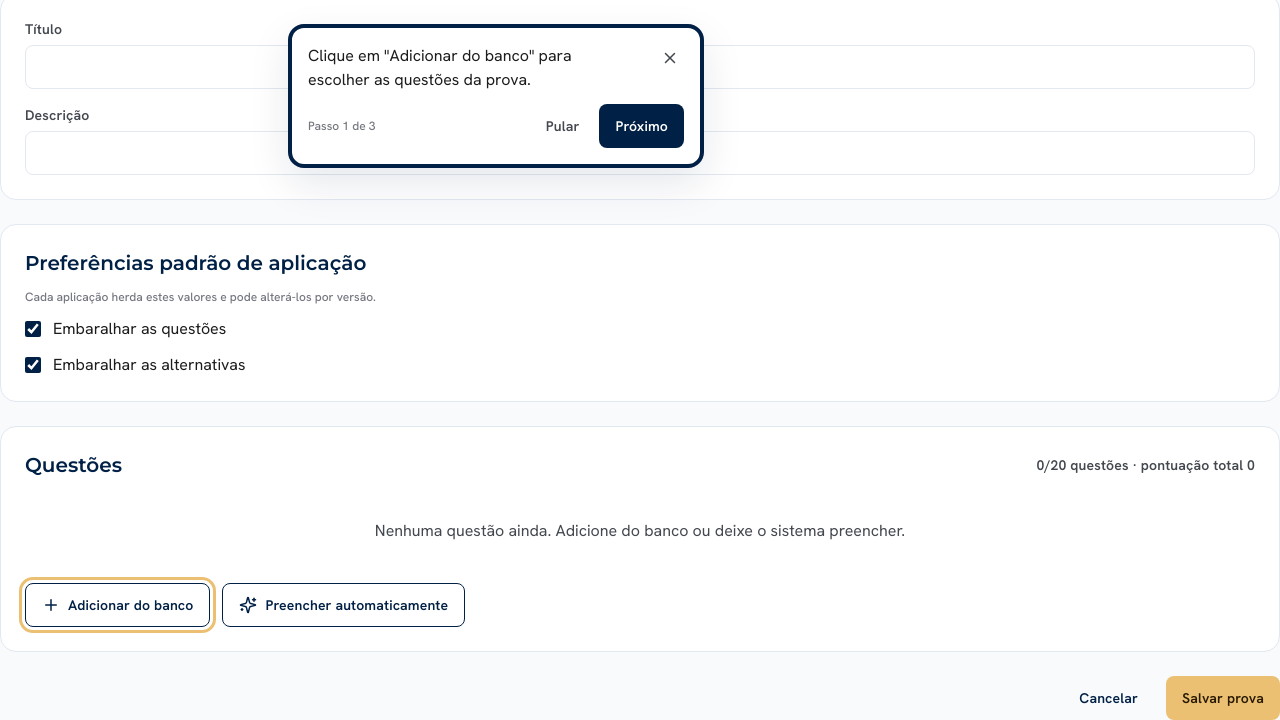
Scenario: ExamFormPage › puts the score back when the field is left empty
The width and height of the screenshot is (1280, 720).
(page scrolled)
Click the button "Adicionar do banco" at (118, 605), box [25,583,210,627]
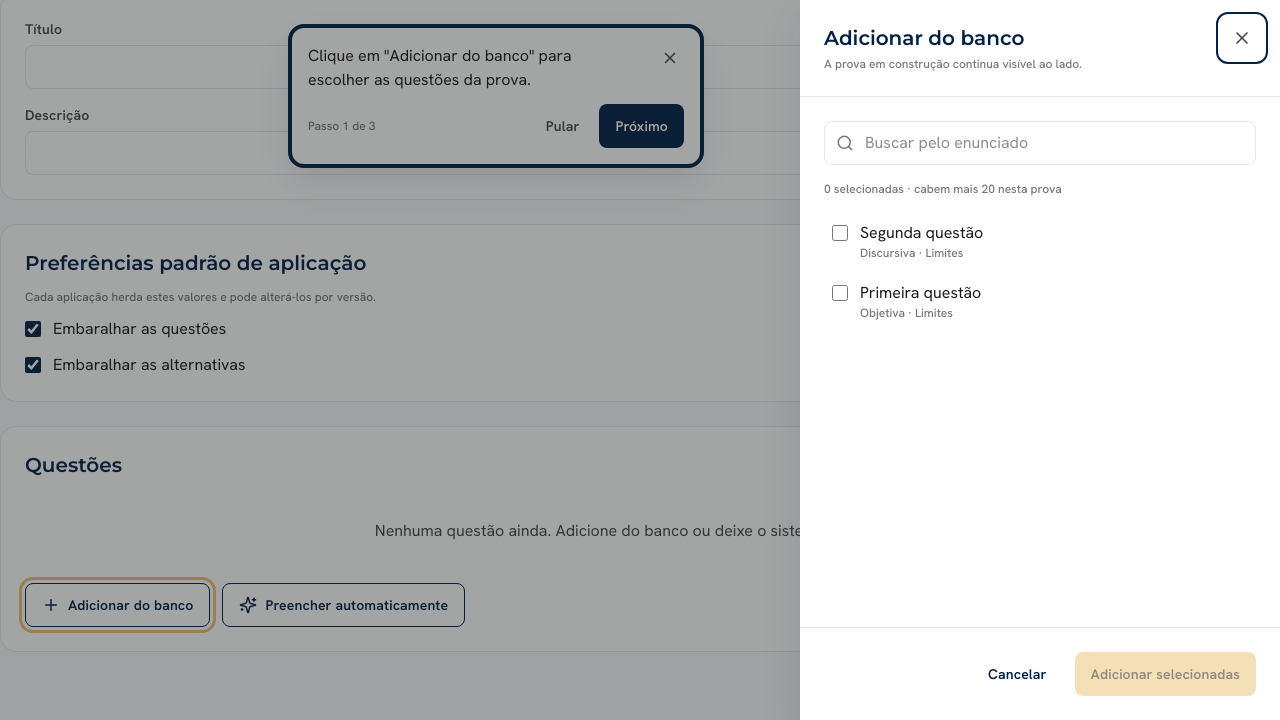
Click the checkbox labelled "Segunda questão Discursiva · Limites" at (840, 233), box [832,225,848,241]
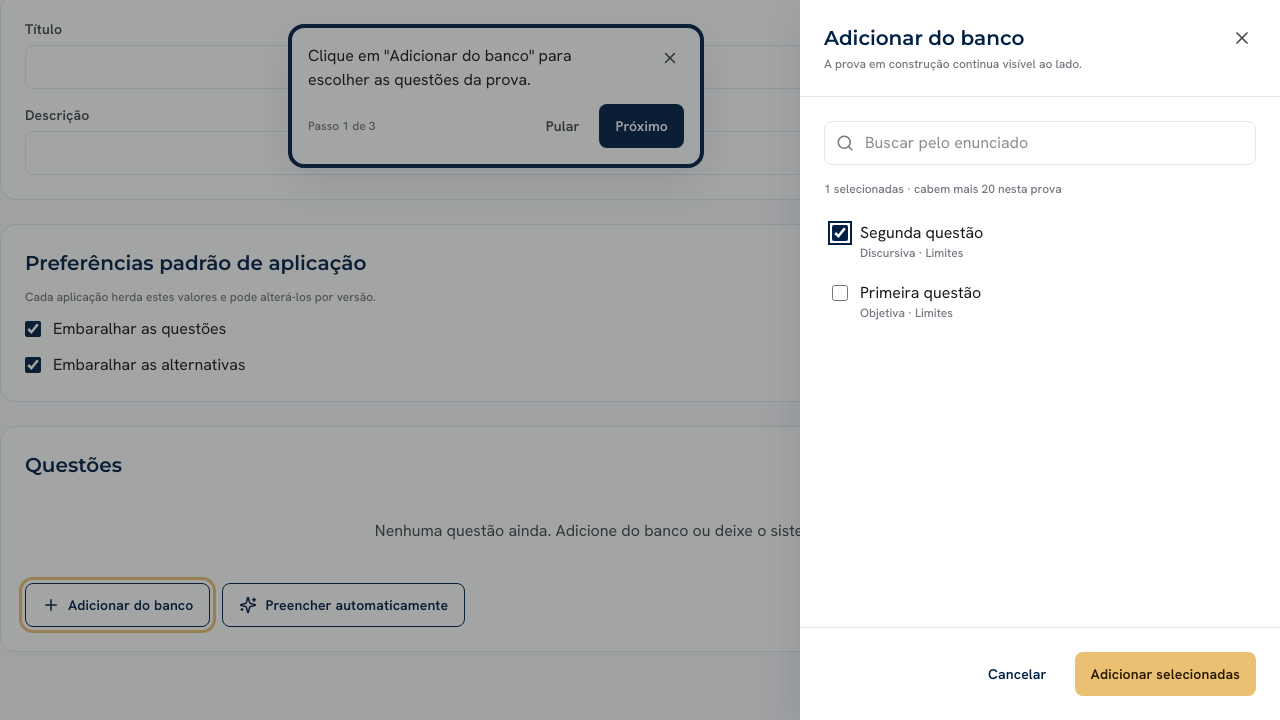
Click the button "Adicionar selecionadas" at (1165, 674), box [1075,652,1256,696]
(page scrolled)
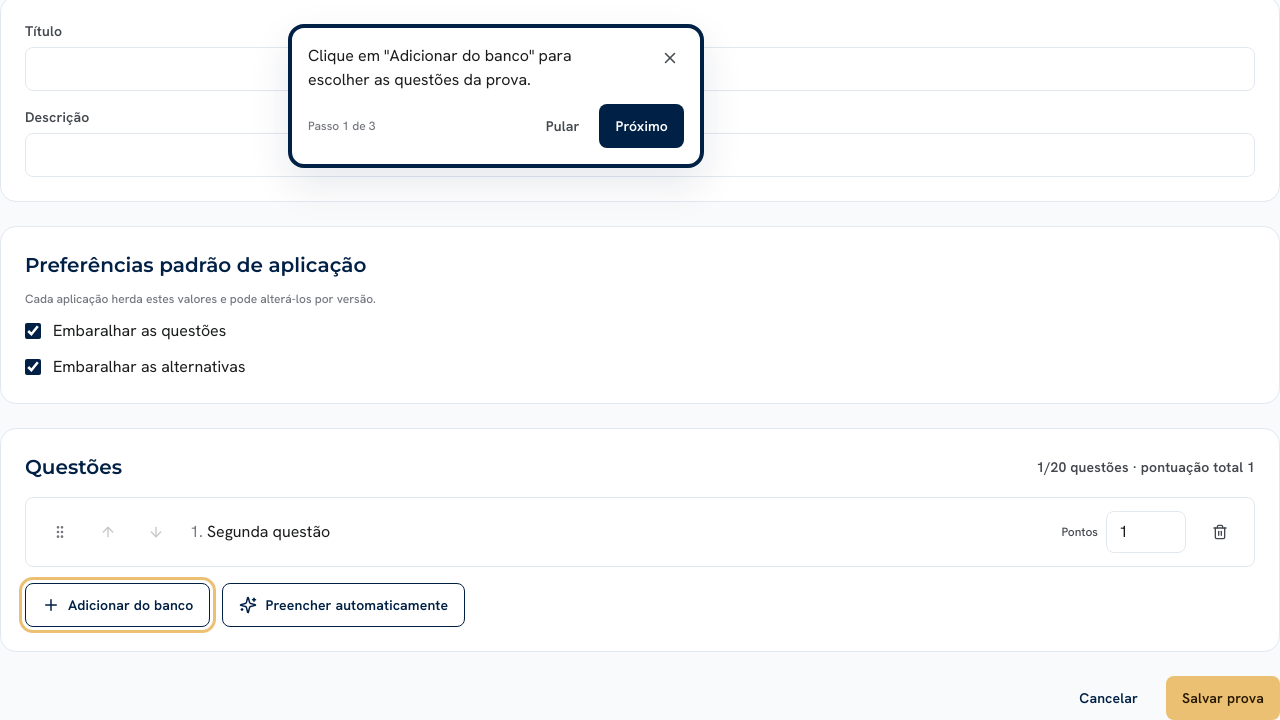
Check: the dialog is gone
Clear the number field named "Pontuação da questão 1 de 1" at (1146, 532), box [1106,511,1186,553]
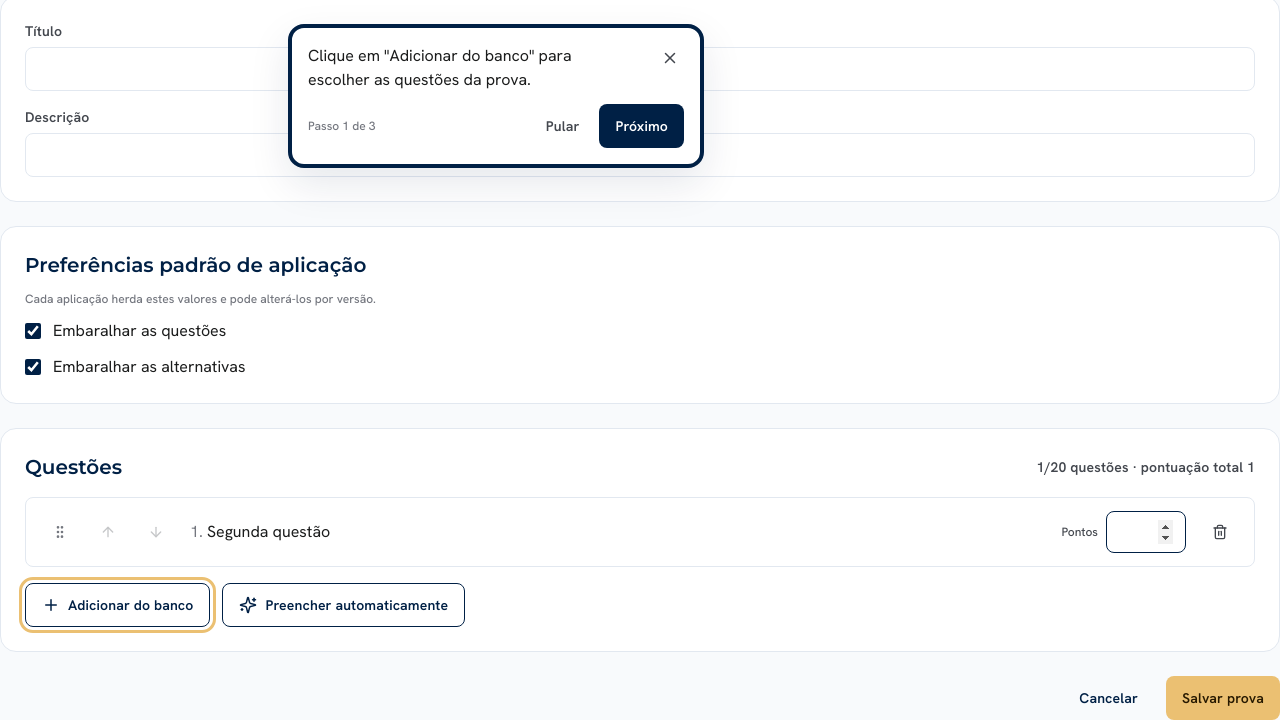
Press Tab
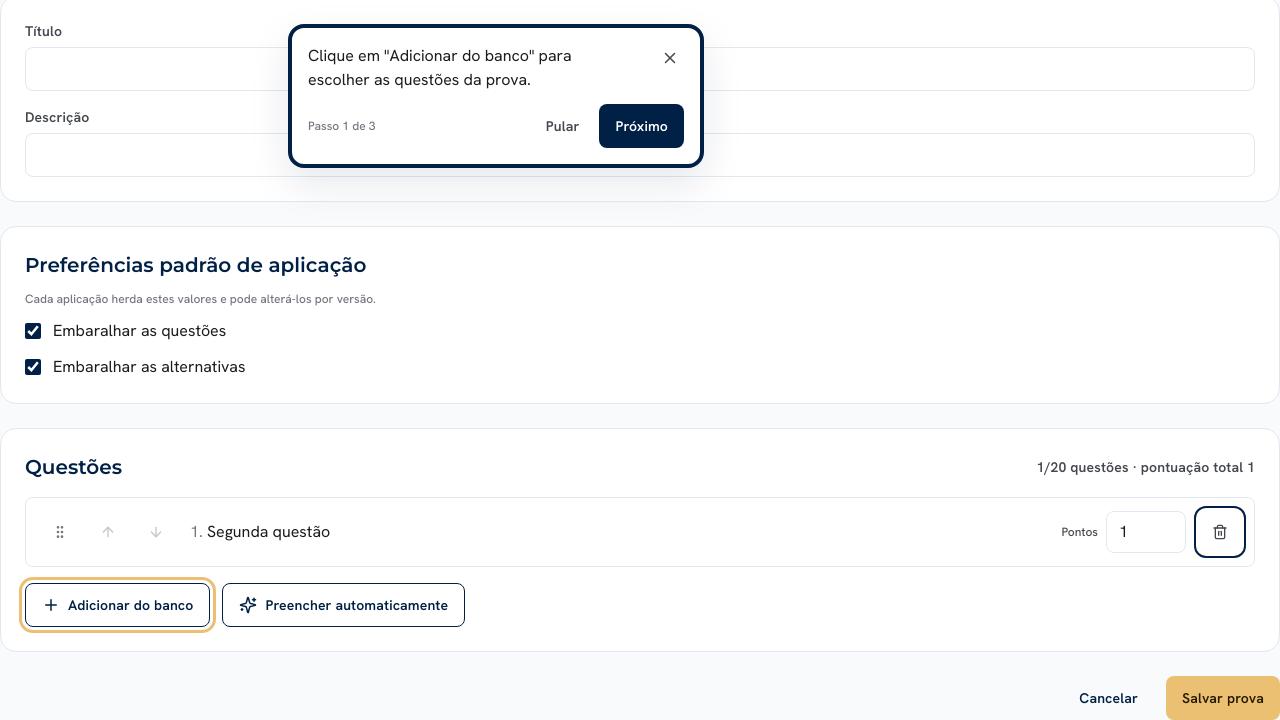
Check: the number field named "Pontuação da questão 1 de 1" holds "1", box [1106,511,1186,553]
